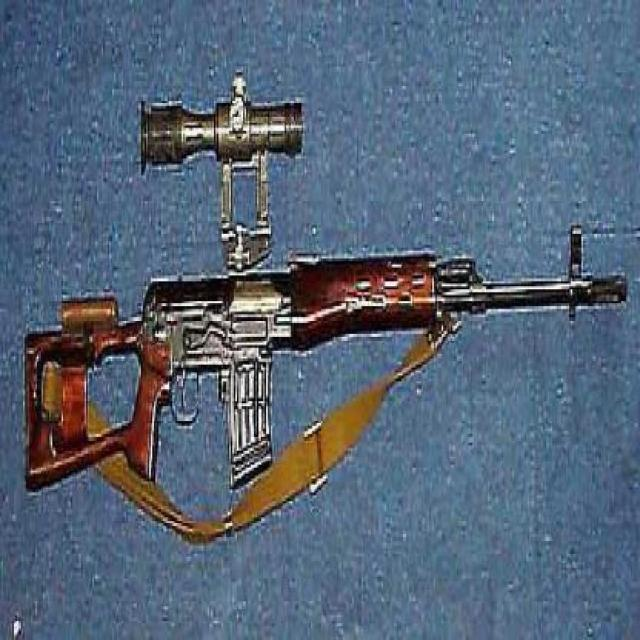weapon: (25, 224, 640, 530)
